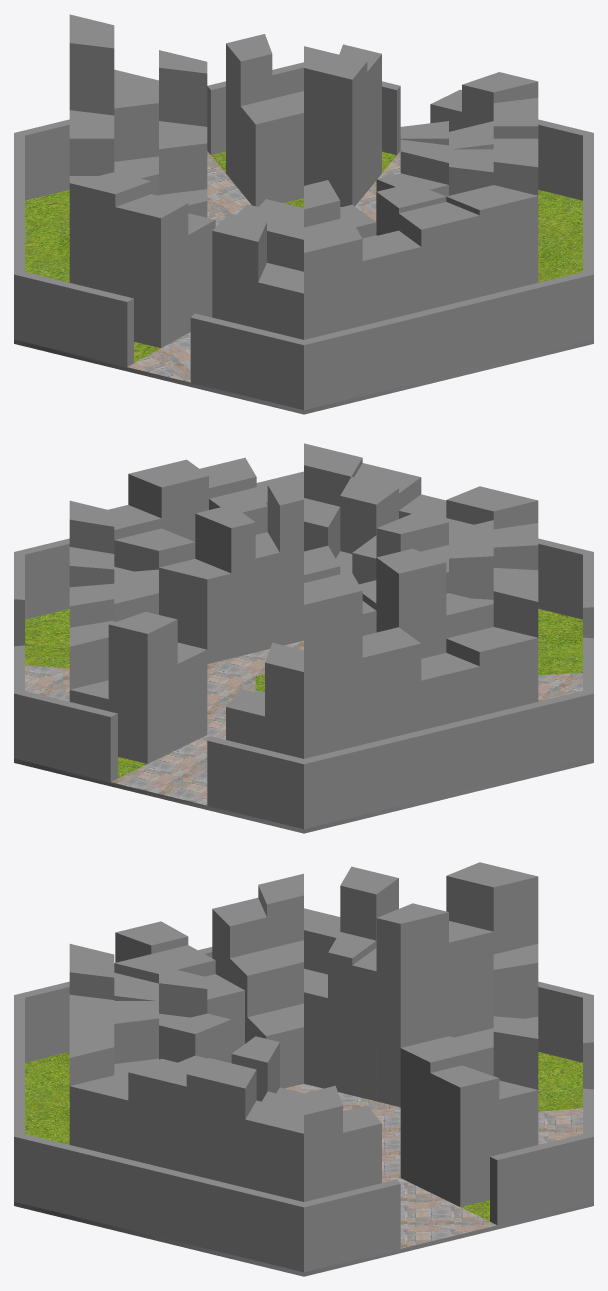
3 renders of one model, top to bottom at view 1: azimuth 30°, elevation 25°; view 2: azimuth 150°, elevation 25°; view 3: azimuth 270°, elevation 25°, orthographic.
Parts seen in each view (by area): view 1: Cylinder036; view 2: Cylinder036; view 3: Cylinder036.
Part boxes in pixels (x1=…): Cylinder036: x1=14, y1=14, x2=593, y2=414; Cylinder036: x1=14, y1=443, x2=593, y2=833; Cylinder036: x1=14, y1=862, x2=593, y2=1276.
Size of the model in its own units: 140 by 46.49 by 121.
5 materials, 2 textured.
